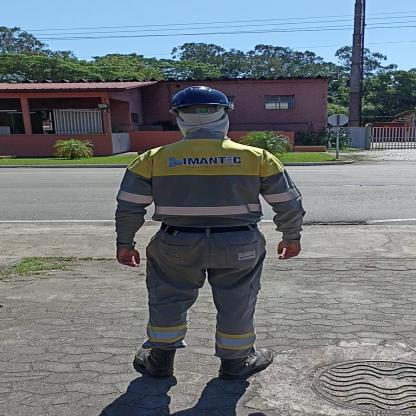Balaclava: (172, 108, 232, 140)
Capacete: (169, 87, 228, 108)
